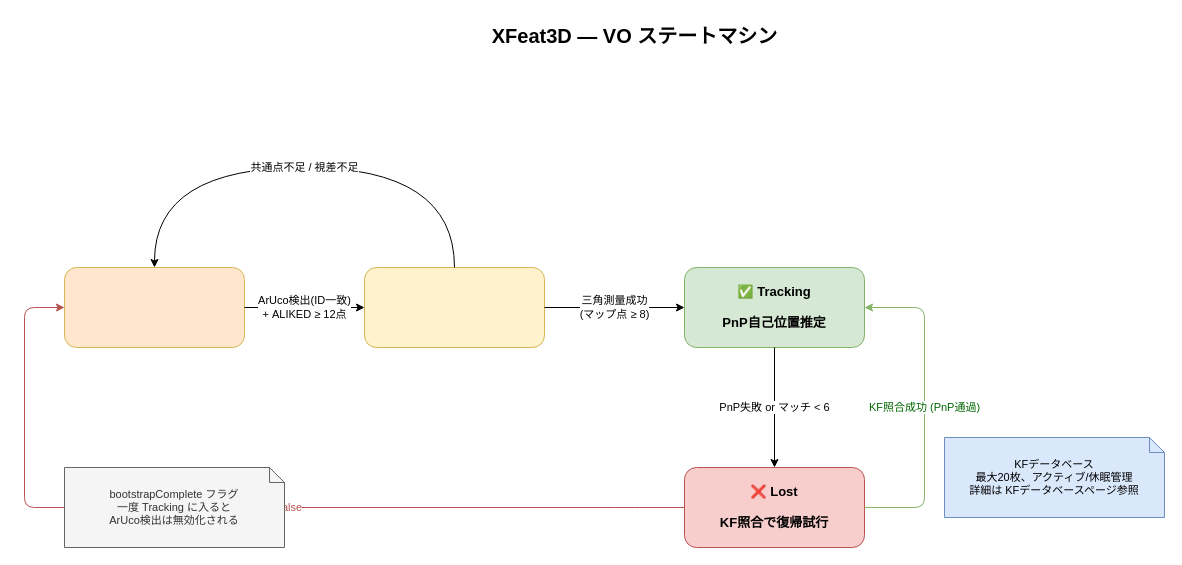
The diagram is 1182 pixels wide and 565 high, and some of its shapes have lost their labels. The centre of each missing label's shape, as x and y in pixels:
"⚙️ Bootstrapping 視差確保 → 三角測量" belongs at point 454,307.
"🔍 Searching ArUcoマーカーを探す" belongs at point 154,307.
